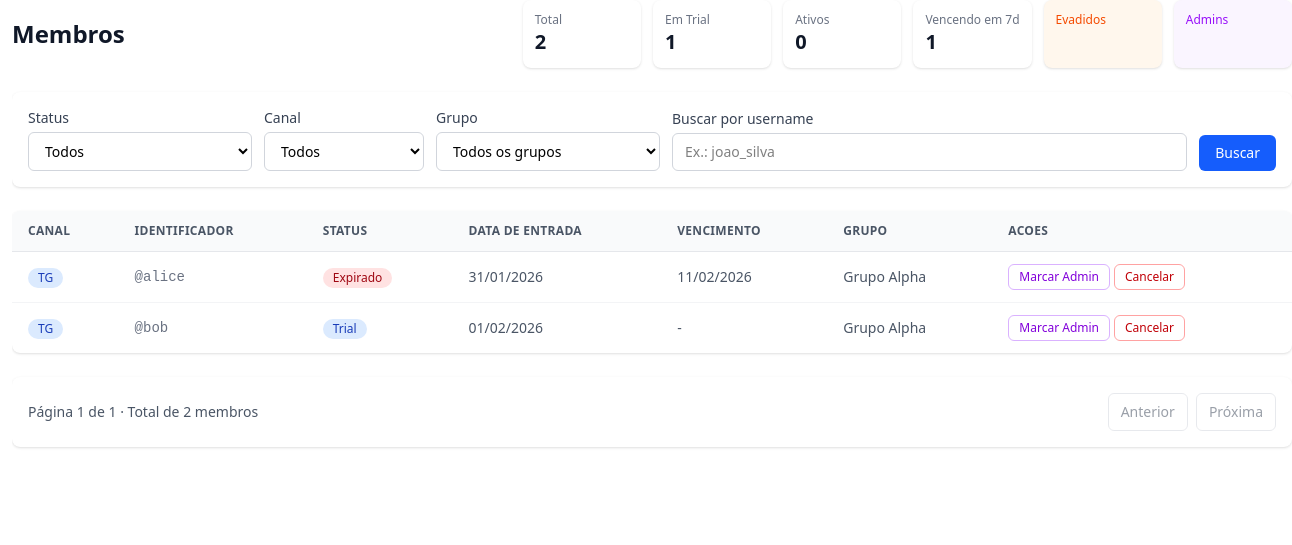
/members page › super_admin com grupo selecionado exibe card com link do bot
Check: the text "@alice" is shown, box [135,267,185,287]
Select "Grupo Alpha" in the dropdown labelled "Grupo": (548, 152) [436,132,660,171]
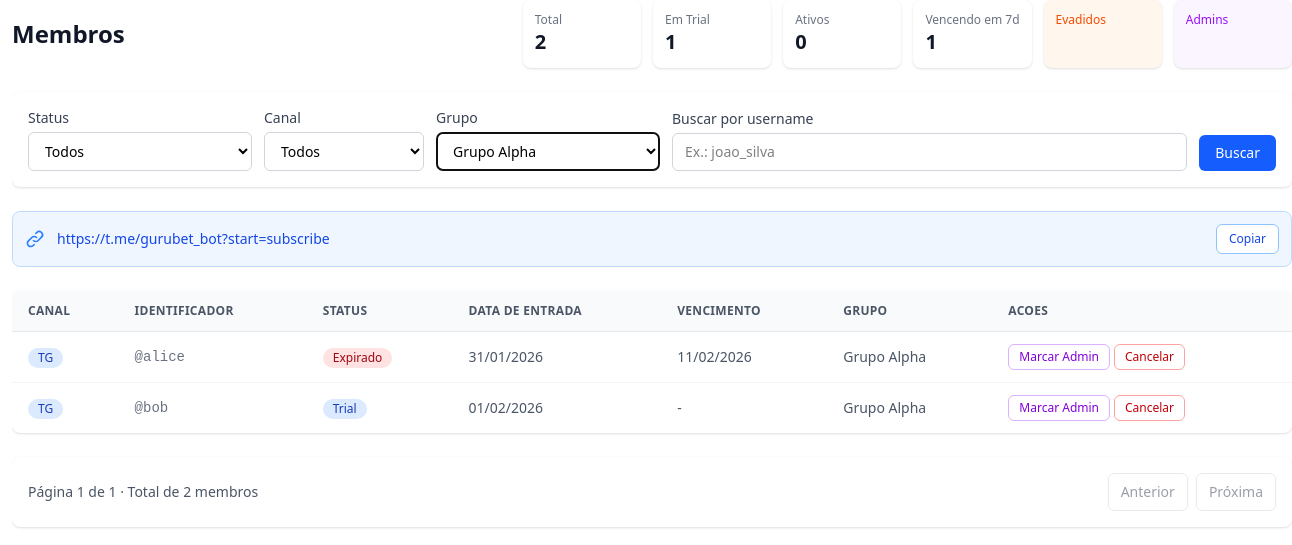
Check: the text with test id "bot-invite-link" reads "https://t.me/gurubet_bot?start=subscribe", box [57,229,330,248]
